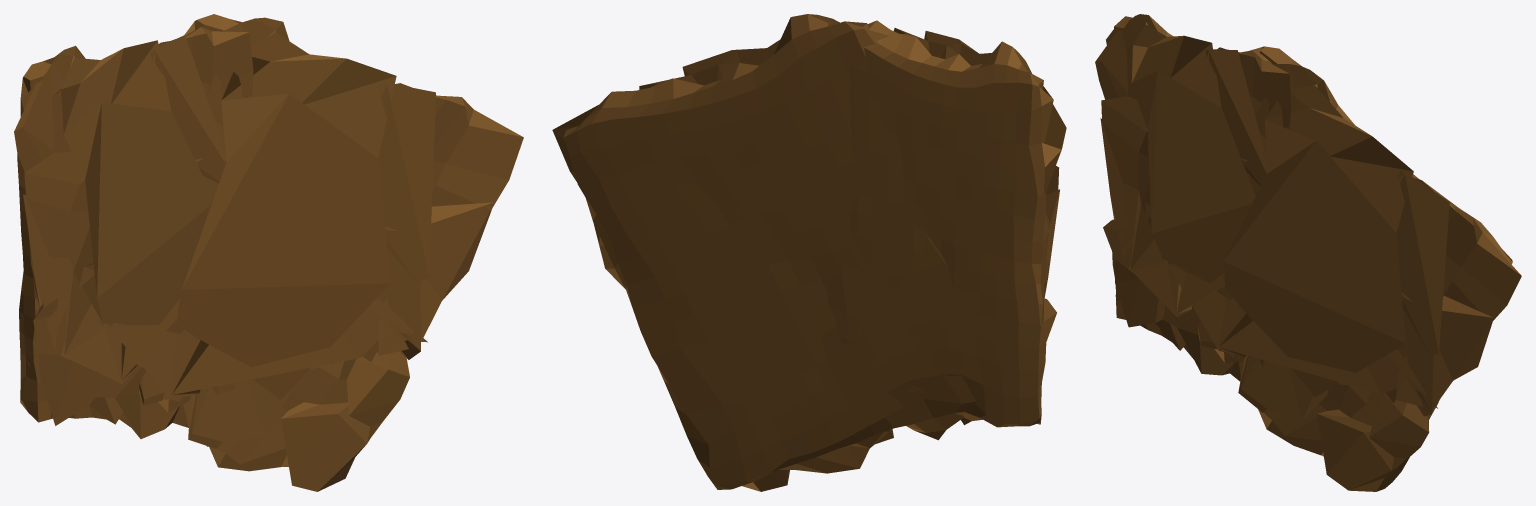
The model's file is ecudo mediano.fbx.
3 renders of one model, left to right at view 1: azimuth 30°, elevation 25°; view 2: azimuth 150°, elevation 25°; view 3: azimuth 330°, elevation 25°, orthographic. The views are drawn at different scales.
Parts seen in each view (by area): view 1: Cube, Cube.001; view 2: Cube, Cube.001; view 3: Cube, Cube.001.
Part boxes in pixels (box(x1,y1,x2,y2)): Cube: box(28, 14, 523, 491); Cube.001: box(14, 27, 253, 425); Cube: box(552, 14, 1038, 491); Cube.001: box(827, 20, 1066, 427); Cube: box(1145, 46, 1521, 491); Cube.001: box(1095, 14, 1291, 369).
Bounding box in the file's own units: 2039 × 1930 × 146.
